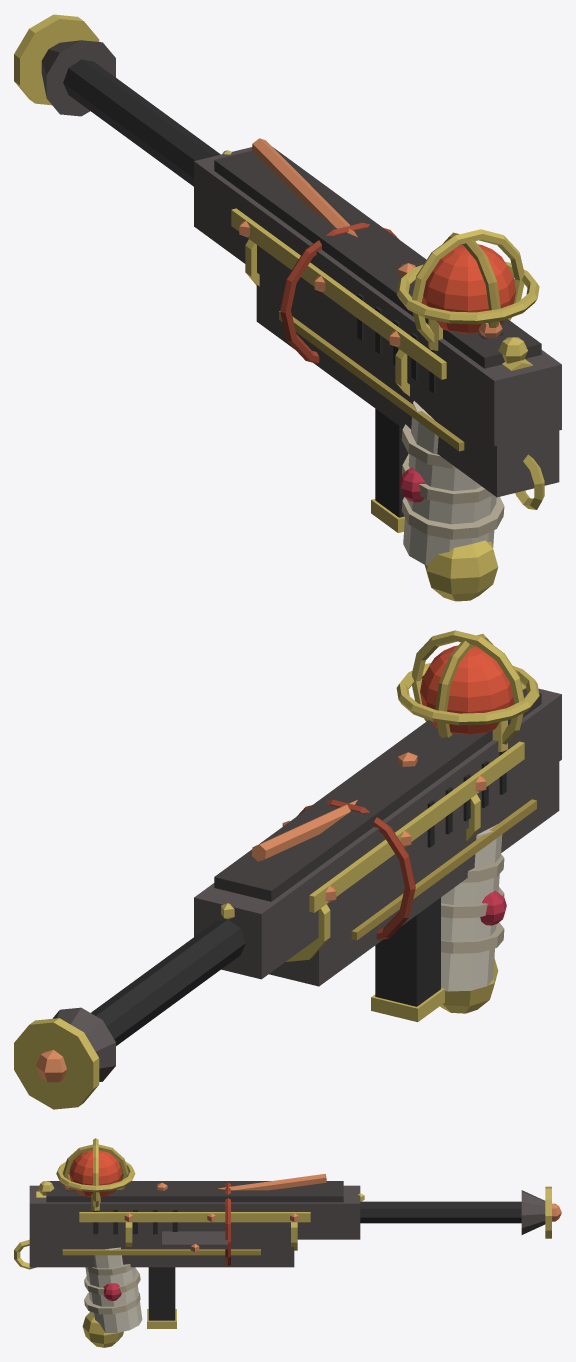
File: zarya_tk4.glb
3 views of the same model, one above another, from view 1: azimuth 30°, elevation 25°; view 2: azimuth 150°, elevation 25°; view 3: azimuth 270°, elevation 25° (orthographic). The views are drawn at different scales.
Visible parts, largest first — view 1: zarya_tk4; view 2: zarya_tk4; view 3: zarya_tk4.
Boxes of the visible parts, x1,y1,x2,y2 form: zarya_tk4: (14, 14, 561, 601); zarya_tk4: (14, 630, 561, 1109); zarya_tk4: (14, 1138, 561, 1347).
Bounding box in the file's own units: 0.0626 × 0.1364 × 0.3315.
